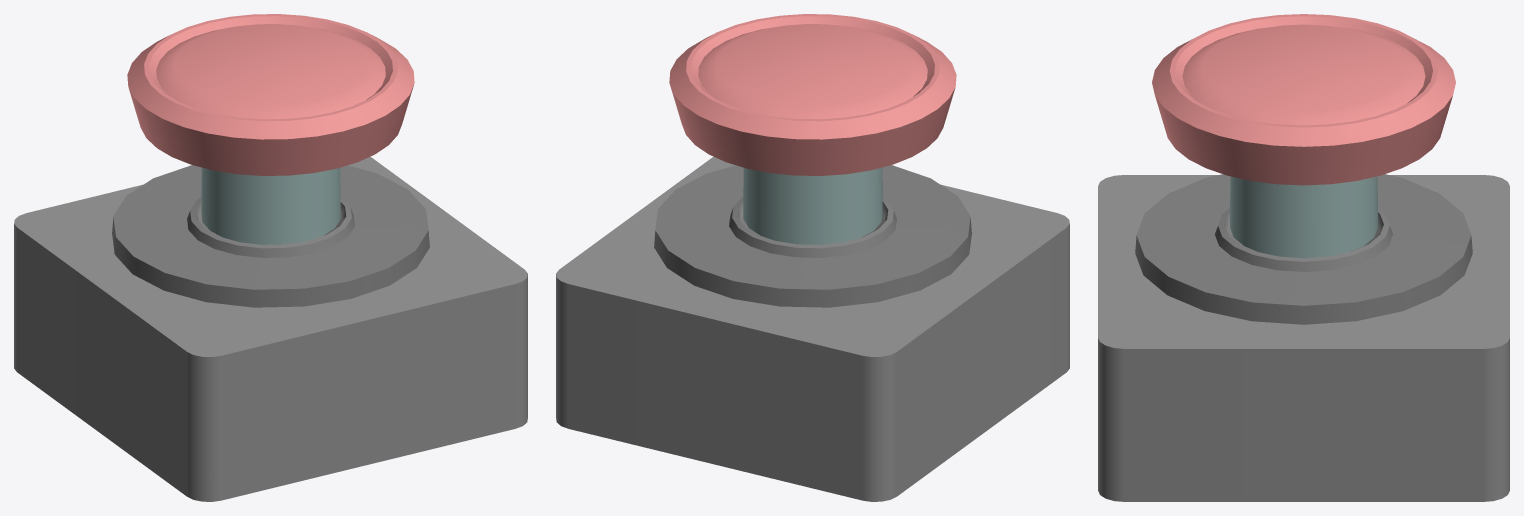
Rendered from Push Button.fbx.
3 renders of one model, left to right at view 1: azimuth 30°, elevation 25°; view 2: azimuth 150°, elevation 25°; view 3: azimuth 270°, elevation 25°, orthographic. The views are drawn at different scales.
Parts seen in each view (by area): view 1: Emergency_Stop_Plate, EmergencyStop; view 2: Emergency_Stop_Plate, EmergencyStop; view 3: Emergency_Stop_Plate, EmergencyStop.
Part boxes in pixels (x1=…): Emergency_Stop_Plate: x1=14, y1=156, x2=527, y2=501; EmergencyStop: x1=127, y1=14, x2=414, y2=244; Emergency_Stop_Plate: x1=556, y1=156, x2=1069, y2=501; EmergencyStop: x1=669, y1=14, x2=956, y2=244; Emergency_Stop_Plate: x1=1098, y1=174, x2=1509, y2=501; EmergencyStop: x1=1152, y1=14, x2=1455, y2=258.
Bounding box in the file's own units: 12.76 × 11.99 × 12.76.
